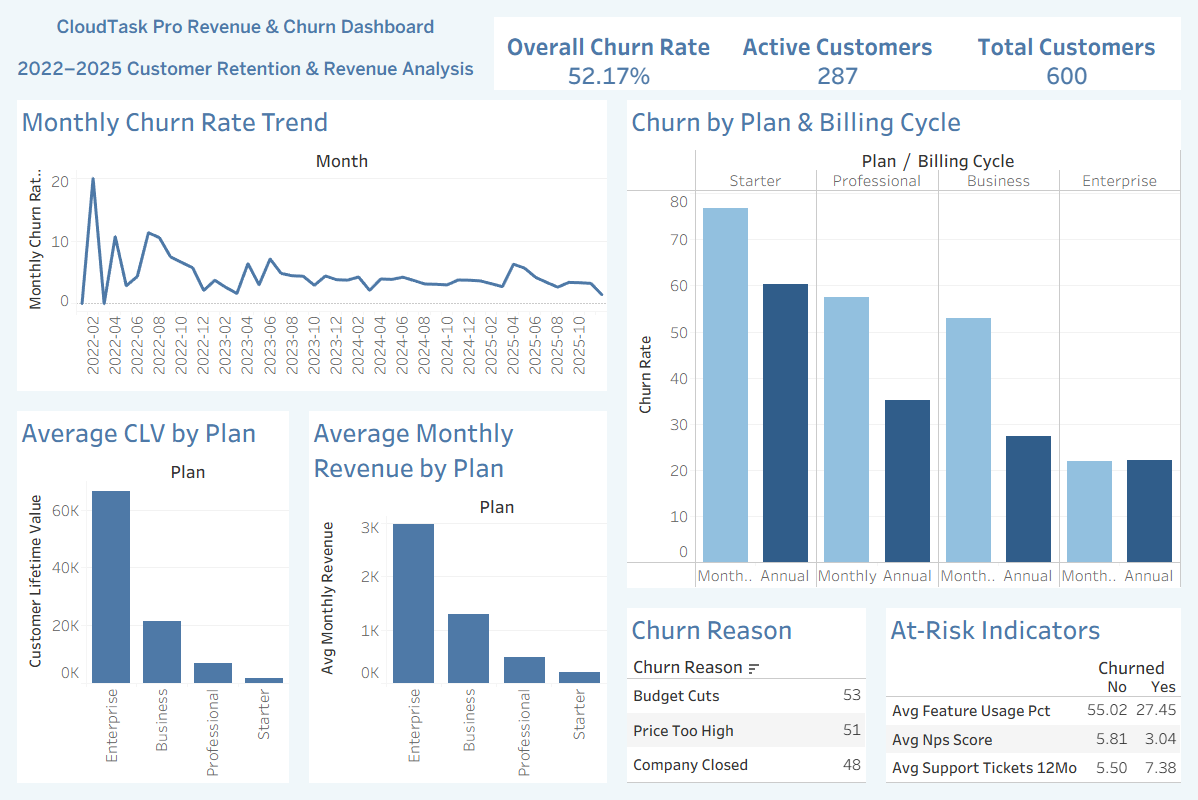

This screenshot's page, from the dashboard's own definition file:
{"tool":"tableau","page":{"name":"CloudTask Pro Revenue & Churn Dashboard","canvas":[1000,1000],"units":"permille","ordinal":0},"visuals":[{"type":"text","box":[6.7,10,397.5,103.5]},{"type":"worksheet","title":"KPI","mark":"Automatic","box":[404.2,10,589.2,103.5]},{"type":"worksheet","title":"Churn Rate","mark":"Line","rows":["monthly_churn_rate_pct"],"cols":["month"],"box":[6.7,113.4,508.3,387.7]},{"type":"worksheet","title":"Churn by Plan","mark":"Automatic","rows":["churn_rate"],"cols":["plan","billing_cycle"],"box":[515,113.4,478.3,633.7]},{"type":"worksheet","title":"Average CLV by Plan","mark":"Automatic","rows":["customer_lifetime_value"],"cols":["plan"],"box":[6.7,501.2,243.3,488.9]},{"type":"worksheet","title":"Monthly Revenue by Plan","mark":"Automatic","rows":["avg_monthly_revenue"],"cols":["plan"],"box":[250,501.2,265,488.9]},{"type":"worksheet","title":"Churn Reason","mark":"Automatic","rows":["churn_reason"],"box":[515,747.1,215.8,242.9]},{"type":"worksheet","title":"At-Risk Indicators","mark":"Automatic","cols":["churned"],"box":[730.8,747.1,262.5,242.9]}]}

Visuals, with their boxes on the dashboard's canvas, which has no fixed pixel size, in thousandths of its width and height (x1, y1, x2, y2). These are canvas units, not pixel positions in the 1198x800 screenshot, which may show the page scaled, cropped or inside an application window:
text: detection(7, 10, 404, 114)
"KPI" worksheet: detection(404, 10, 993, 114)
"Churn Rate" worksheet (Line marks): detection(7, 113, 515, 501)
"Churn by Plan" worksheet: detection(515, 113, 993, 747)
"Average CLV by Plan" worksheet: detection(7, 501, 250, 990)
"Monthly Revenue by Plan" worksheet: detection(250, 501, 515, 990)
"Churn Reason" worksheet: detection(515, 747, 731, 990)
"At-Risk Indicators" worksheet: detection(731, 747, 993, 990)
